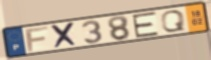3: (81, 19, 104, 45)
8: (107, 15, 132, 42)
E: (131, 10, 161, 39)
F: (25, 25, 50, 53)
Q: (160, 9, 187, 33)
X: (50, 21, 80, 50)
